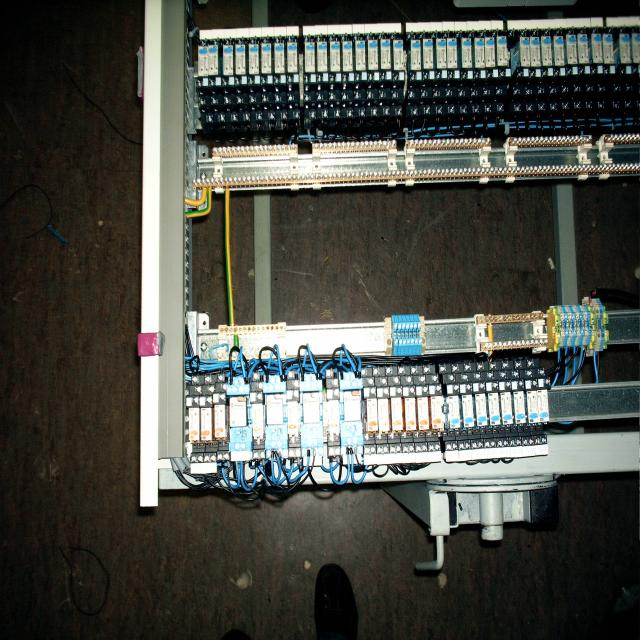Relais: (227, 376, 253, 467), (263, 375, 288, 461), (341, 369, 362, 468), (300, 372, 322, 465), (252, 403, 265, 441), (461, 395, 475, 427), (417, 398, 430, 432), (366, 399, 378, 434), (328, 401, 340, 436), (488, 393, 501, 425), (448, 396, 461, 428), (214, 405, 226, 439), (201, 407, 213, 441), (526, 391, 539, 422), (501, 392, 513, 425), (188, 407, 199, 443), (248, 44, 260, 76), (513, 394, 526, 423), (207, 45, 219, 76), (260, 43, 272, 74), (530, 36, 542, 67), (431, 396, 443, 427), (475, 395, 487, 426), (404, 398, 415, 431), (288, 403, 299, 436), (619, 34, 631, 64), (591, 34, 603, 64), (578, 34, 590, 64), (553, 35, 565, 65), (367, 40, 379, 70), (274, 42, 285, 74), (330, 41, 341, 73), (391, 398, 402, 430), (541, 36, 553, 65), (235, 44, 246, 75), (287, 42, 298, 73), (423, 38, 434, 69), (436, 38, 447, 69), (461, 37, 472, 68), (378, 398, 388, 432), (223, 45, 234, 75), (317, 42, 328, 72), (520, 37, 531, 67), (497, 36, 508, 66), (342, 41, 353, 71), (355, 41, 366, 71), (198, 45, 208, 77), (305, 42, 315, 74), (394, 39, 404, 70), (474, 37, 484, 68), (567, 36, 578, 64), (381, 39, 391, 69), (411, 40, 421, 70), (485, 38, 495, 68), (603, 34, 613, 63), (539, 389, 547, 423), (447, 38, 456, 68), (631, 35, 640, 64)
